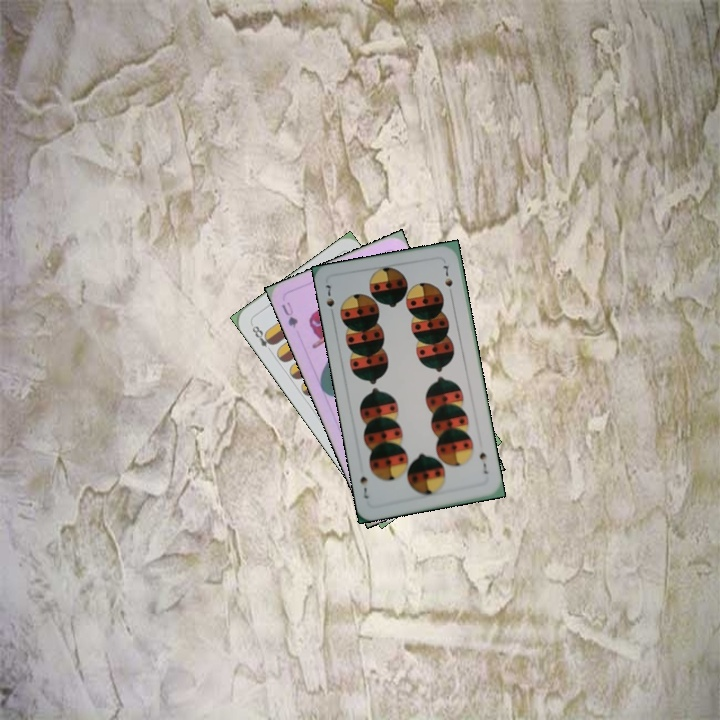E8: (247, 320, 277, 356)
GU: (277, 298, 301, 331)
S7: (322, 280, 337, 320), (475, 448, 491, 477)
